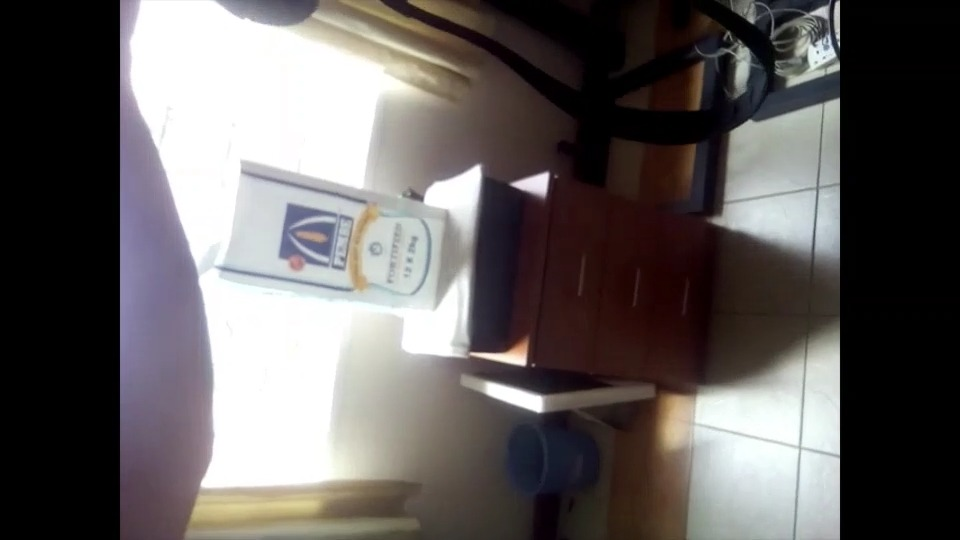wheat_flour_blue_label: (210, 158, 444, 308)
